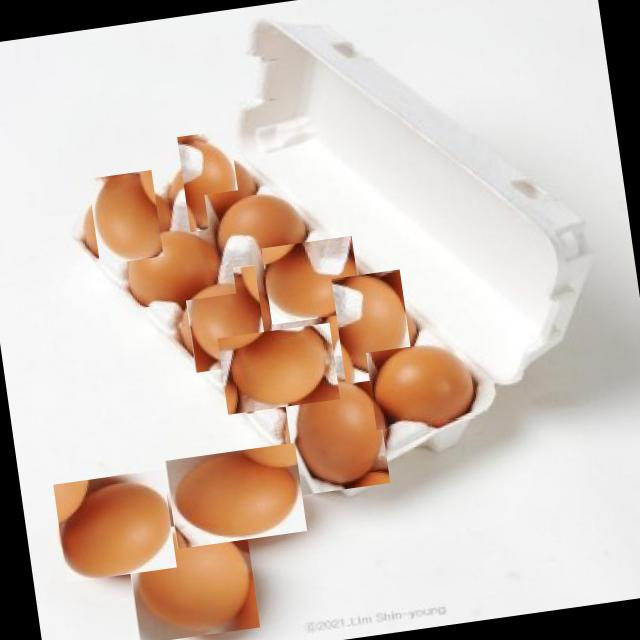eggs: (127, 514, 259, 640), (165, 442, 307, 549), (52, 468, 178, 584), (278, 375, 395, 492), (217, 322, 341, 415), (366, 338, 486, 431), (124, 220, 237, 308), (323, 278, 422, 377), (204, 181, 316, 266), (177, 270, 274, 367), (260, 235, 362, 325), (83, 174, 169, 260), (168, 139, 252, 224)
